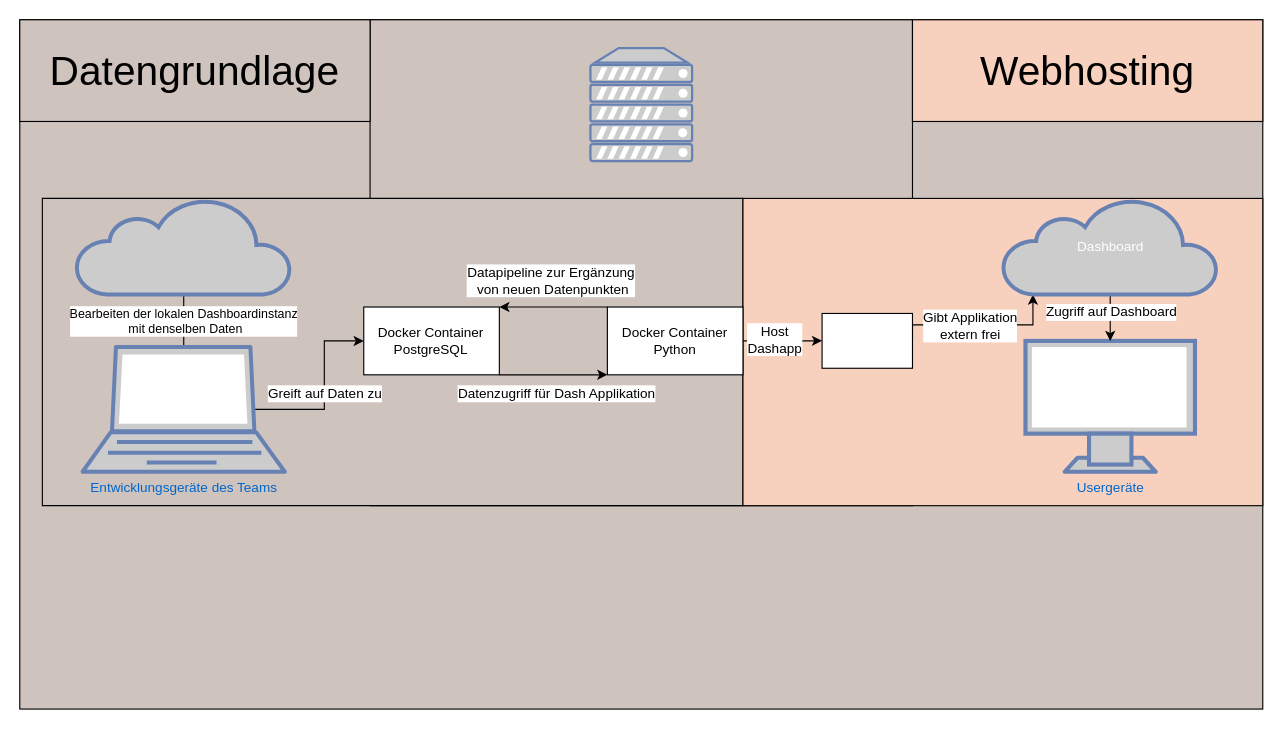
Some shapes in this 1283 by 729 pixel diagram are drawn without their labels. The centre of each missing label's shape, as x and y in pixels:
"FHNW Server v000727.edu.ds.fhnw.ch/" goes at (x=641, y=104).
"lokales Entwicklungs Dashboard" goes at (x=183, y=246).
"WebServer" goes at (x=866, y=340).
